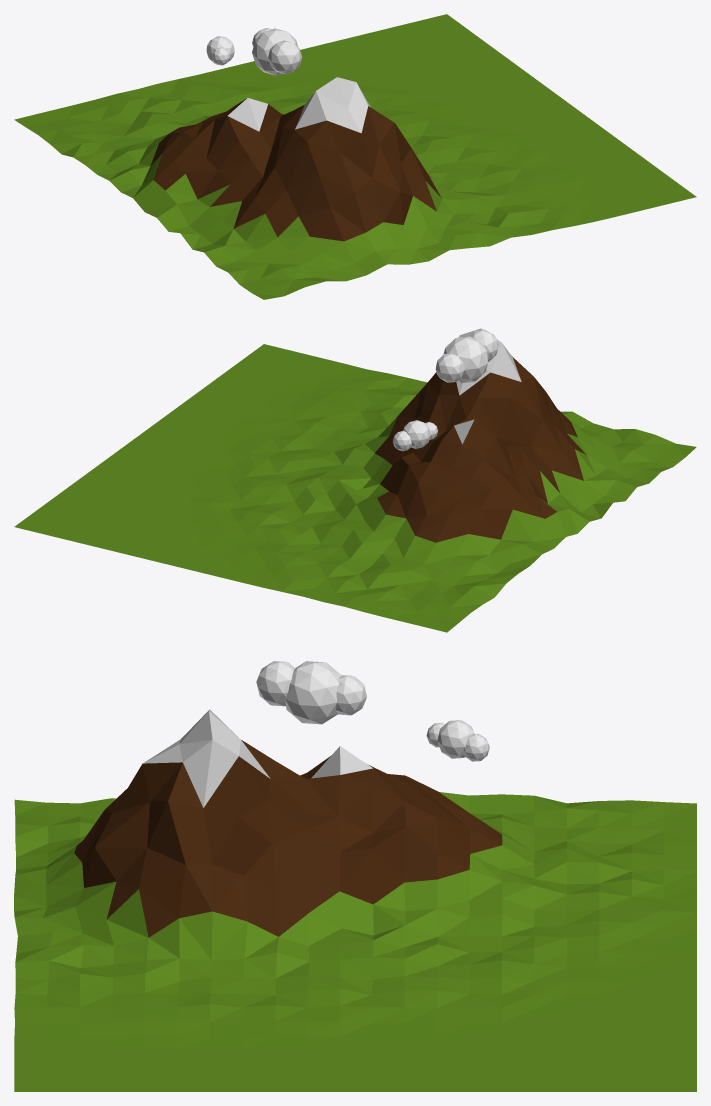
The model's file is Mountain.glb.
The picture shows the model from 3 angles, top to bottom: view 1: azimuth 30°, elevation 25°; view 2: azimuth 150°, elevation 25°; view 3: azimuth 270°, elevation 25°; orthographic projection. The views are drawn at different scales.
Visible parts, largest first — view 1: Plane.001, Plane.002, Plane.003, Plane.004; view 2: Plane.001, Plane.002, Plane.004, Plane.003; view 3: Plane.001, Plane.002, Plane.004, Plane.003.
Boxes of the visible parts, x1=… form: Plane.001: x1=14, y1=14, x2=696, y2=299; Plane.002: x1=150, y1=98, x2=441, y2=241; Plane.003: x1=227, y1=77, x2=370, y2=133; Plane.004: x1=206, y1=28, x2=301, y2=75; Plane.001: x1=14, y1=344, x2=696, y2=632; Plane.002: x1=375, y1=356, x2=586, y2=542; Plane.004: x1=392, y1=329, x2=498, y2=451; Plane.003: x1=454, y1=328, x2=521, y2=444; Plane.001: x1=14, y1=792, x2=696, y2=1091; Plane.002: x1=74, y1=740, x2=502, y2=937; Plane.004: x1=256, y1=661, x2=489, y2=761; Plane.003: x1=143, y1=709, x2=372, y2=807.
Bounding box in the file's own units: 14.04 × 5.03 × 14.05.
